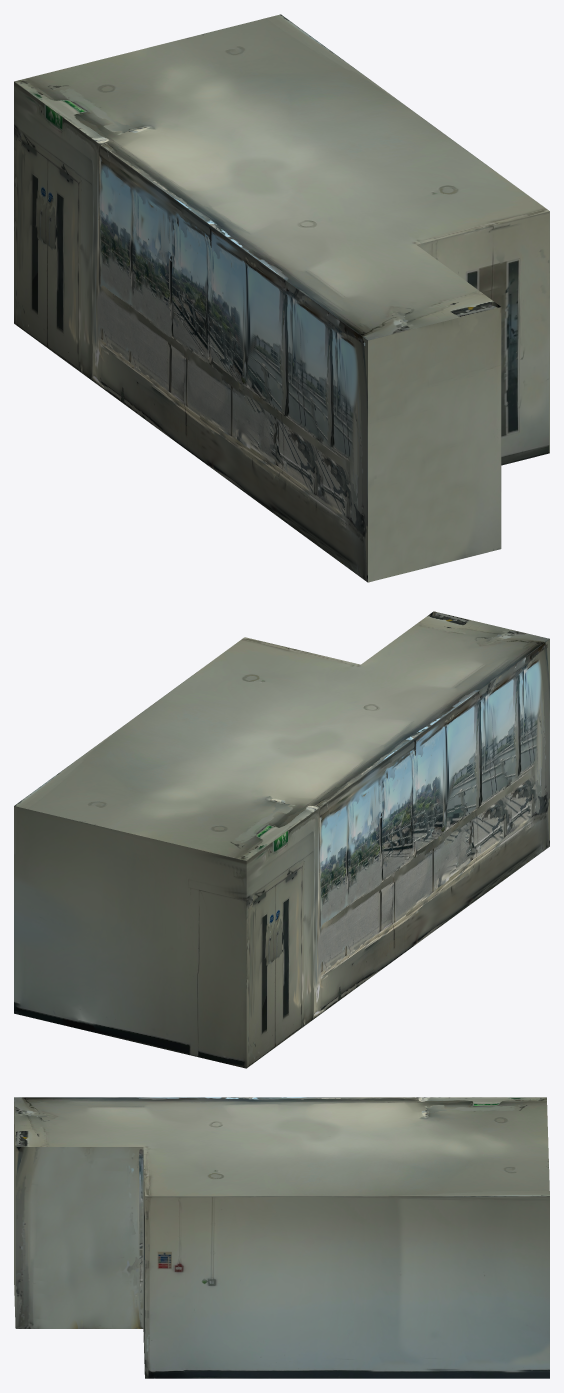
Rendered from 4-corr-next-to-hd-LP.fbx.
3 renders of one model, top to bottom at view 1: azimuth 30°, elevation 25°; view 2: azimuth 150°, elevation 25°; view 3: azimuth 270°, elevation 25°, orthographic. The views are drawn at different scales.
Parts seen in each view (by area): view 1: 4th next to head of college MP; view 2: 4th next to head of college MP; view 3: 4th next to head of college MP.
Boxes of the visible parts, <box> form: 4th next to head of college MP: <box>14,14,549,582</box>; 4th next to head of college MP: <box>14,611,549,1068</box>; 4th next to head of college MP: <box>14,1097,549,1378</box>.
Size of the model in its own units: 296 by 254 by 677.
Materials: 1 (1 with a texture image).
